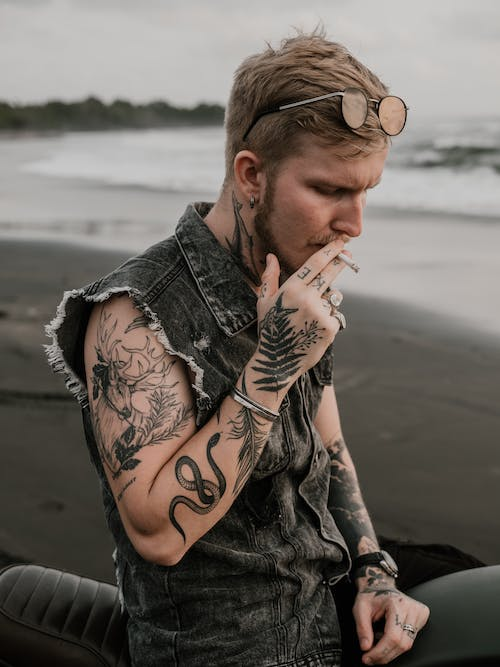cigarette: (335, 251, 363, 275)
